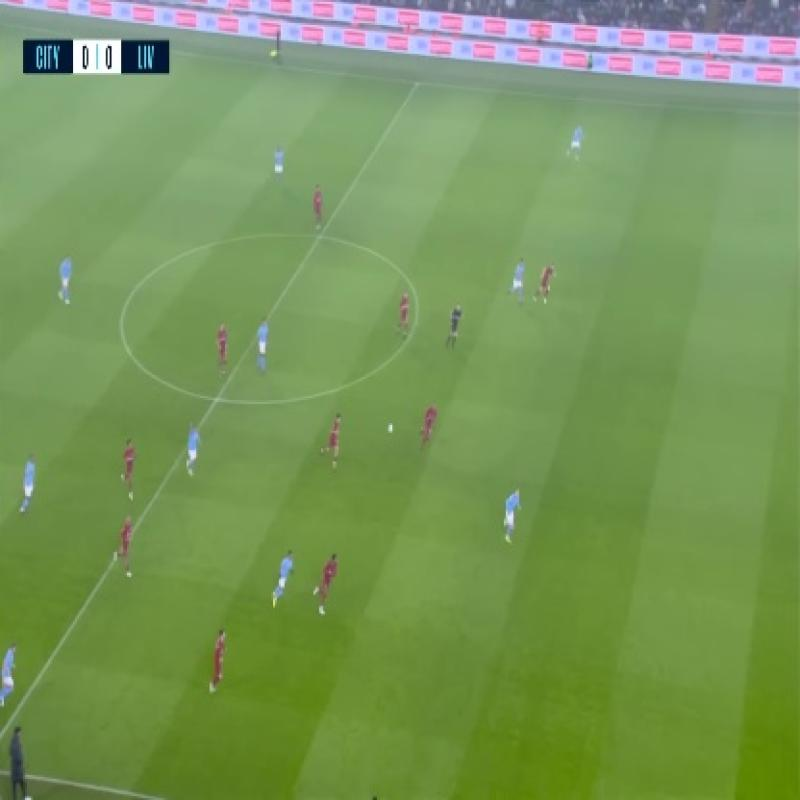13: (406, 71, 425, 94)
14: (308, 223, 329, 248)
15: (200, 378, 233, 418)
c: (390, 314, 432, 358), (117, 274, 154, 304)
